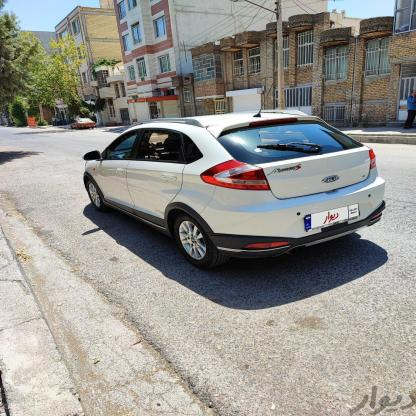Car: (87, 100, 380, 269)
